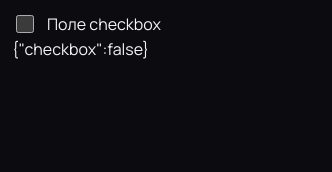
Test case: DynamicField — сам выбирает элемент по типу поля › checkbox → значение true/false
This screenshot has width=332, height=172.
What coordinates should you click on to do the following:
click the checkbox labelled "Поле checkbox"
I would click on:
 (25, 24)
Its box is [16,15,34,33].
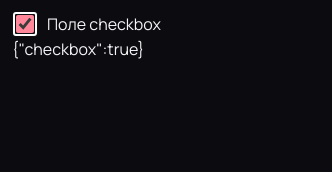
Expected: the text with test id "values" shows "\"checkbox\":true", [12,38,144,60]
